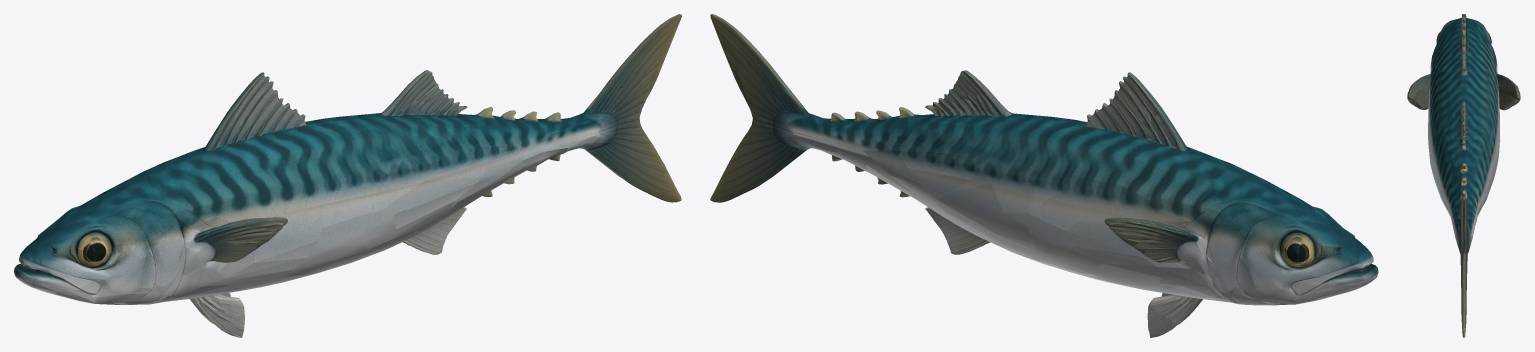
File: fishMackerel.glb
The picture shows the model from 3 angles, left to right: view 1: azimuth 30°, elevation 25°; view 2: azimuth 150°, elevation 25°; view 3: azimuth 270°, elevation 25°; orthographic projection. The views are drawn at different scales.
Parts seen in each view (by area): view 1: Mesh_0; view 2: Mesh_0; view 3: Mesh_0.
Part boxes in pixels (x1,y1,x2,y2): Mesh_0: (14,14,681,337); Mesh_0: (710,14,1378,337); Mesh_0: (1407,14,1520,337).
Size of the model in its own units: 0.3009 by 0.11 by 0.0595.
Materials: 1 (1 with a texture image).
